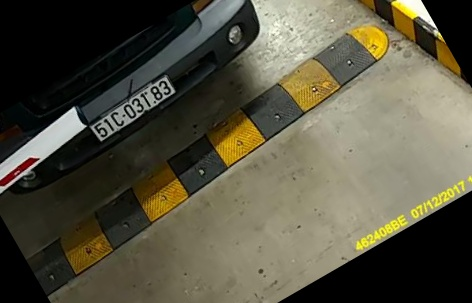plate: (89, 71, 180, 147)
